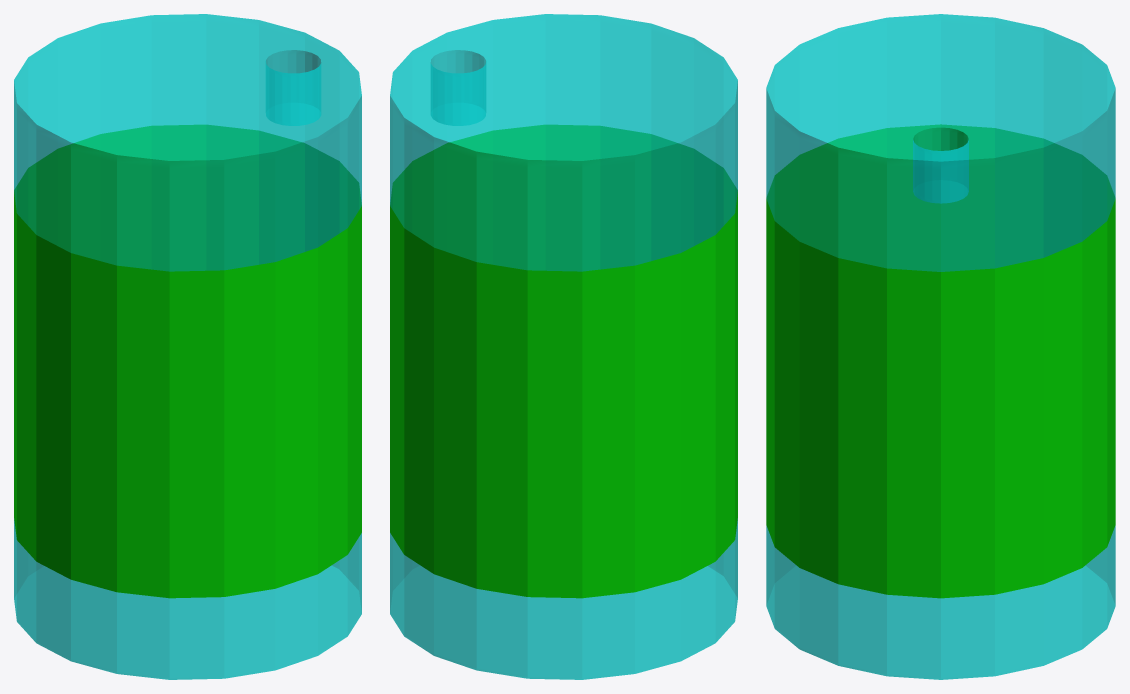
The model's file is lanzador de palillos.fbx.
3 views of the same model, side by side, from view 1: azimuth 30°, elevation 25°; view 2: azimuth 150°, elevation 25°; view 3: azimuth 270°, elevation 25° (orthographic).
Visible parts, largest first — view 1: pCylinder3; view 2: pCylinder3; view 3: pCylinder3.
Part boxes in pixels (x1=…): pCylinder3: x1=14, y1=14, x2=361, y2=679; pCylinder3: x1=390, y1=14, x2=737, y2=679; pCylinder3: x1=766, y1=14, x2=1115, y2=679.
Bounding box in the file's own units: 9.67 × 15.83 × 9.67.
